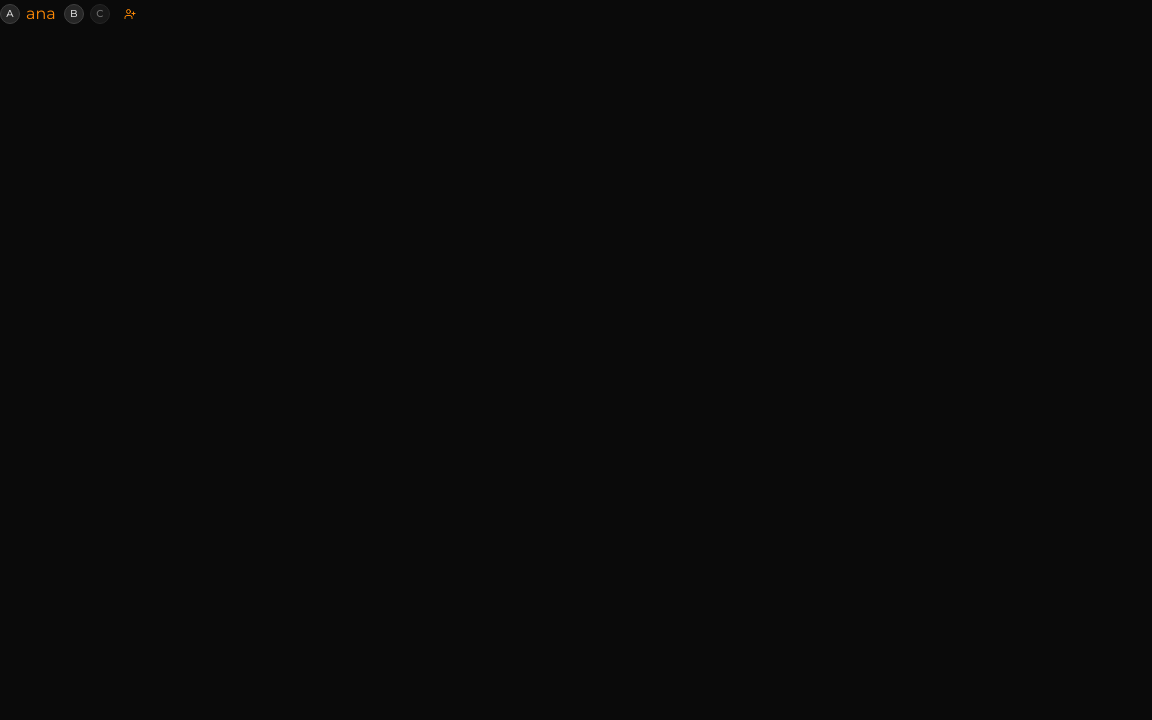
Test: <GeolocatorsByline> › keeps the popover open on a refusal and says why
Click the button named "Invite a geolocator": x=130, y=14 [118,2,142,26]
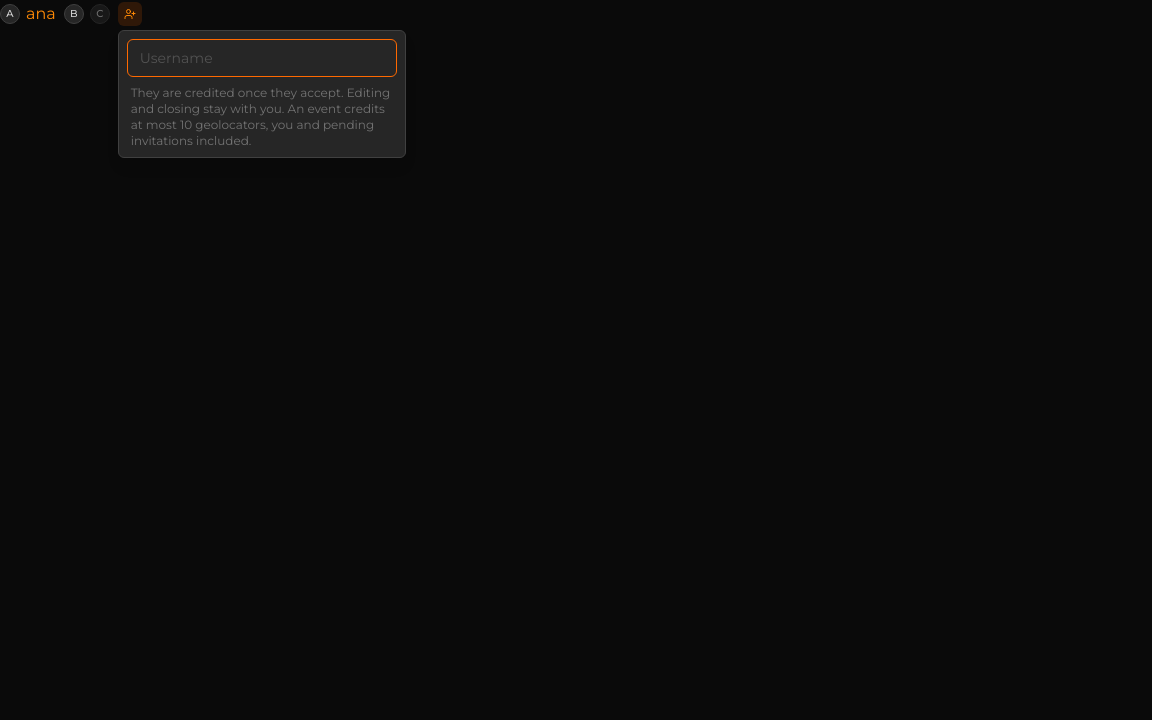
In the dropdown: x=262, y=58 [127,38,397,76], type "nobody"
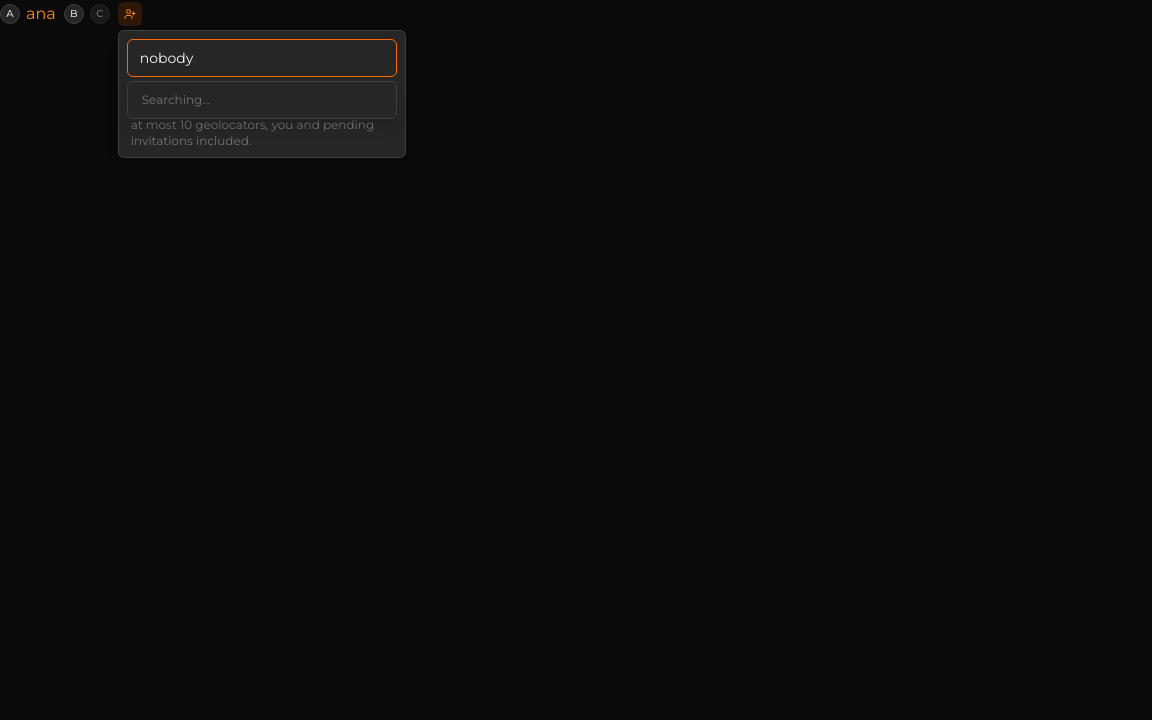
Press Enter in the dropdown, box [127,38,397,76]
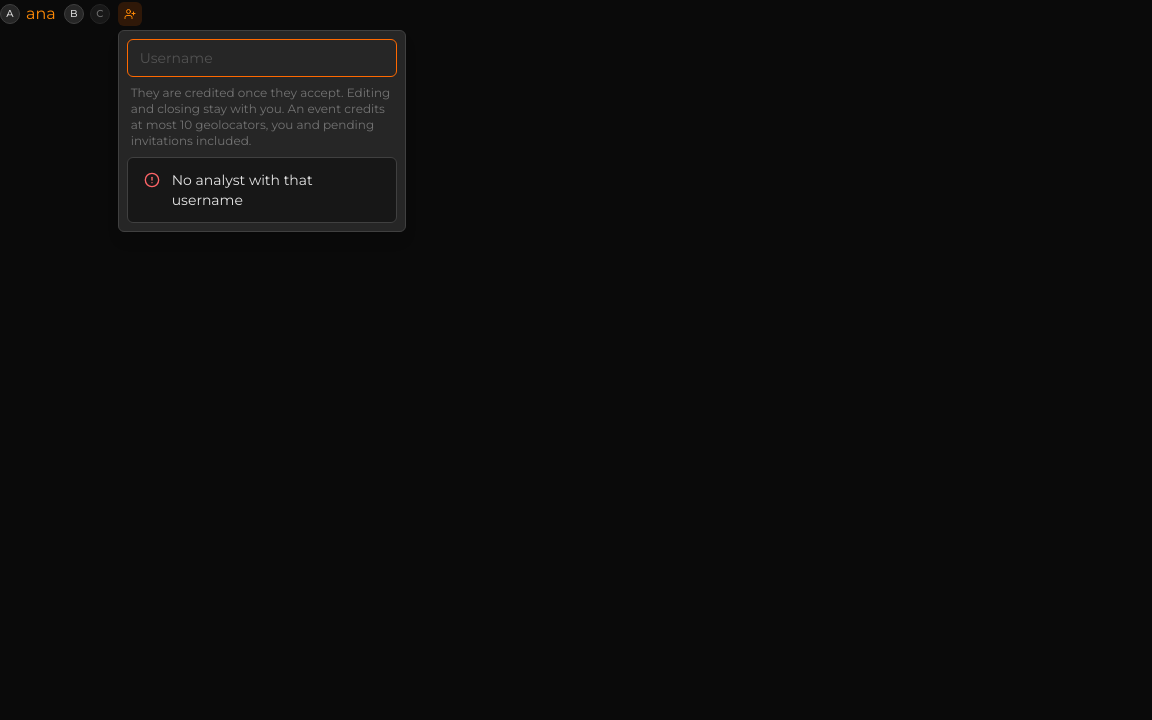
Expected: the message reads "No analyst with that username", [172,170,313,208]
